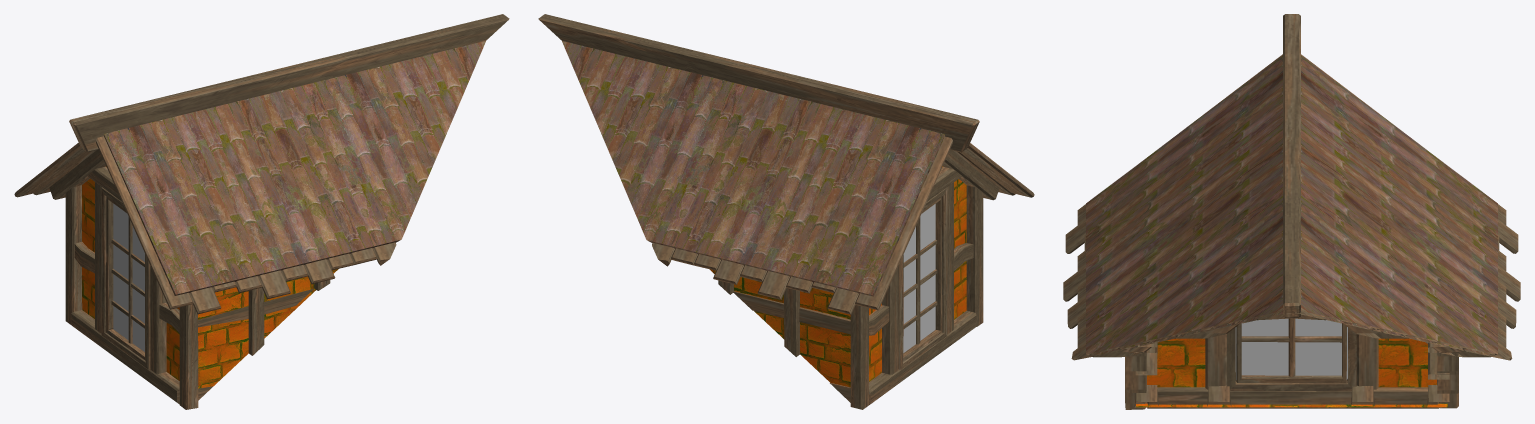
Rendered from SM_roof_window_02.fbx.
The picture shows the model from 3 angles, left to right: view 1: azimuth 30°, elevation 25°; view 2: azimuth 150°, elevation 25°; view 3: azimuth 270°, elevation 25°; orthographic projection. The views are drawn at different scales.
Parts seen in each view (by area): view 1: SM_roof_window_02_LOD0; view 2: SM_roof_window_02_LOD0; view 3: SM_roof_window_02_LOD0.
Part boxes in pixels (bbox=[...]): SM_roof_window_02_LOD0: bbox=[14, 14, 509, 409]; SM_roof_window_02_LOD0: bbox=[538, 14, 1034, 409]; SM_roof_window_02_LOD0: bbox=[1063, 14, 1520, 409].
Bounding box in the file's own units: 629 × 418 × 356.
